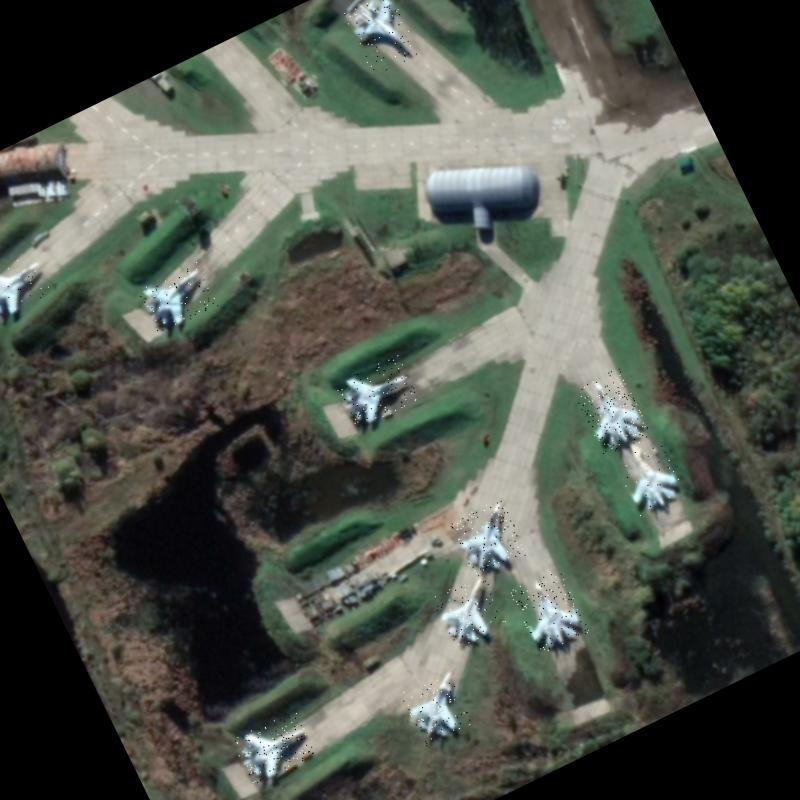A1: (333, 352, 420, 430), (231, 708, 318, 785), (609, 430, 686, 516), (431, 572, 508, 650), (137, 260, 218, 334), (400, 668, 476, 746), (341, 0, 420, 75), (0, 246, 57, 322)
A19: (508, 566, 590, 656), (572, 367, 650, 455), (448, 496, 528, 580)
